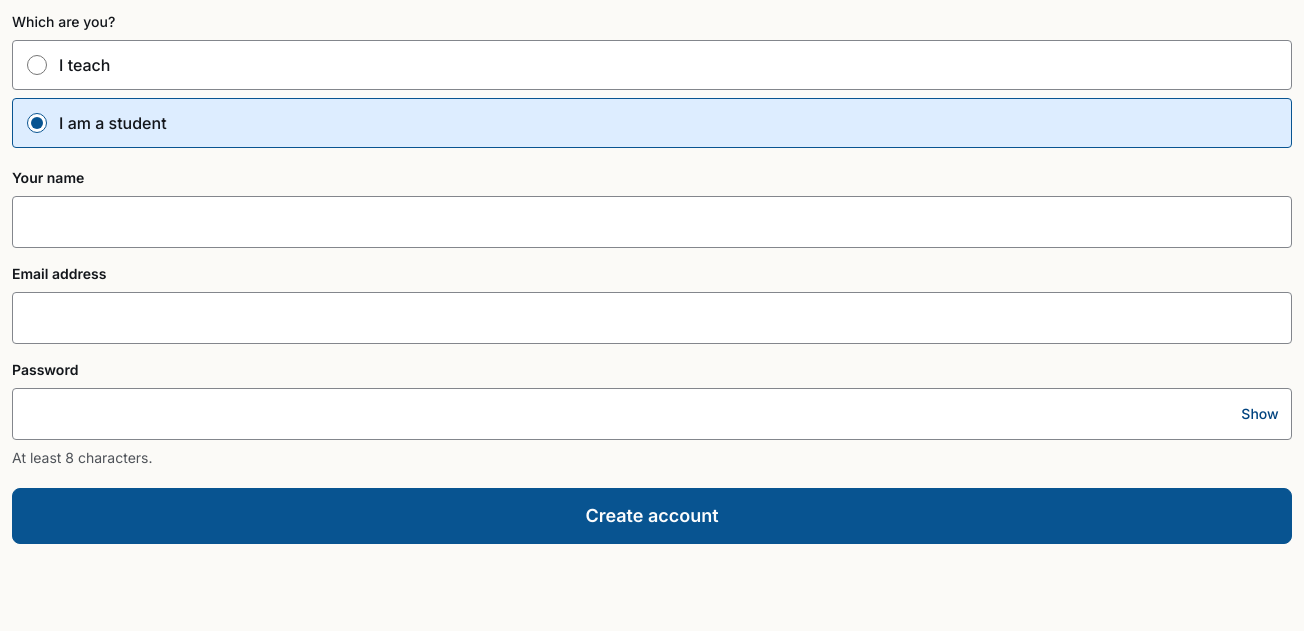
Test: SignUpForm (#361) › ties a refusal to its field, announces it and moves focus there
Step 1. Type "Ada Lovelace" into the field labelled "Your name" → [652, 222], box [12,196,1292,248]
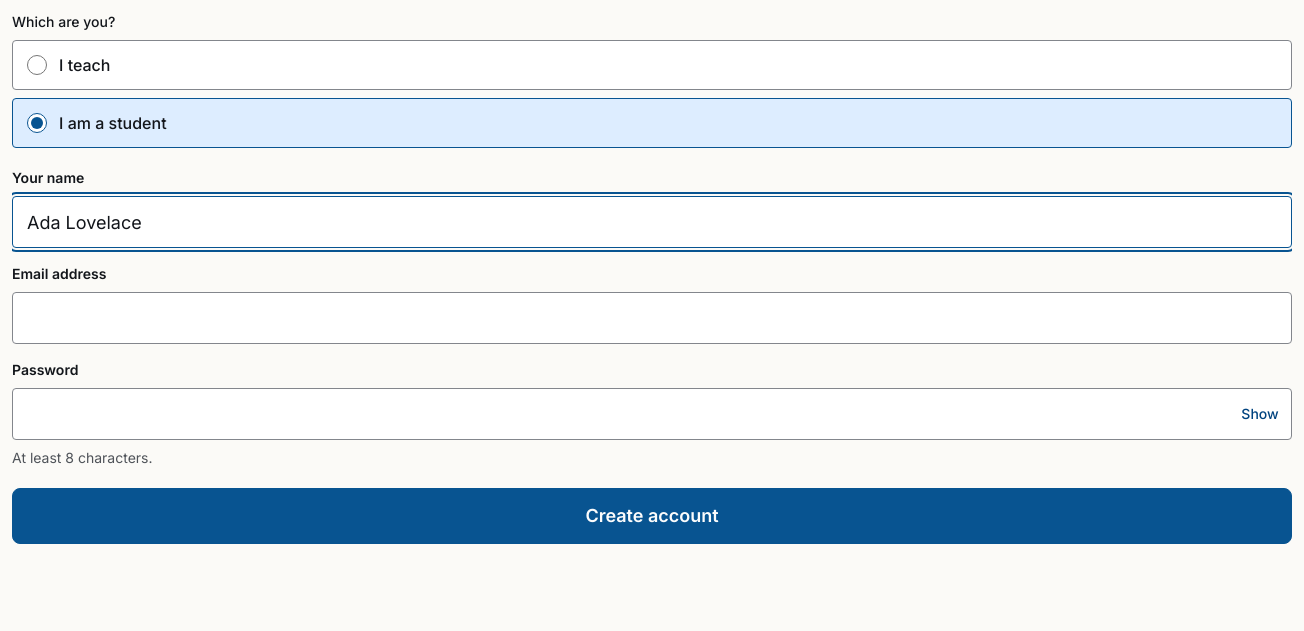
Step 2. Type "ada@school.edu" into the field labelled "Email address" → [652, 318], box [12,292,1292,344]
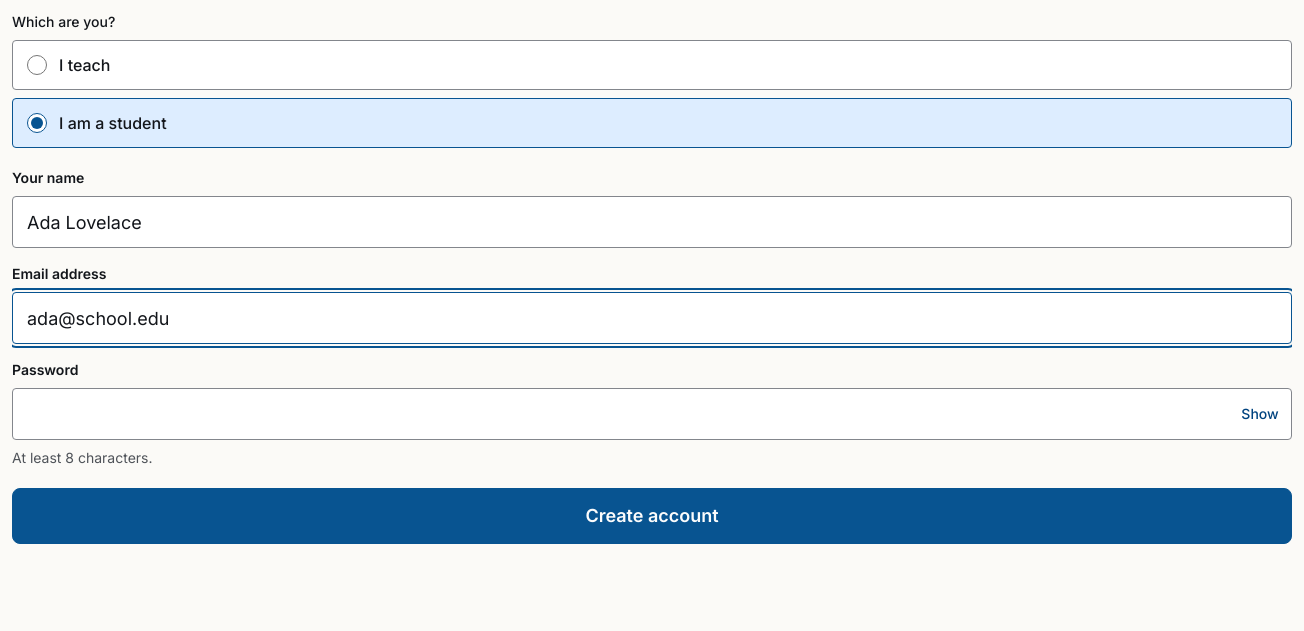
Step 3. Type "correct horse battery" into the password field labelled "Password" → [652, 414], box [12,388,1292,440]
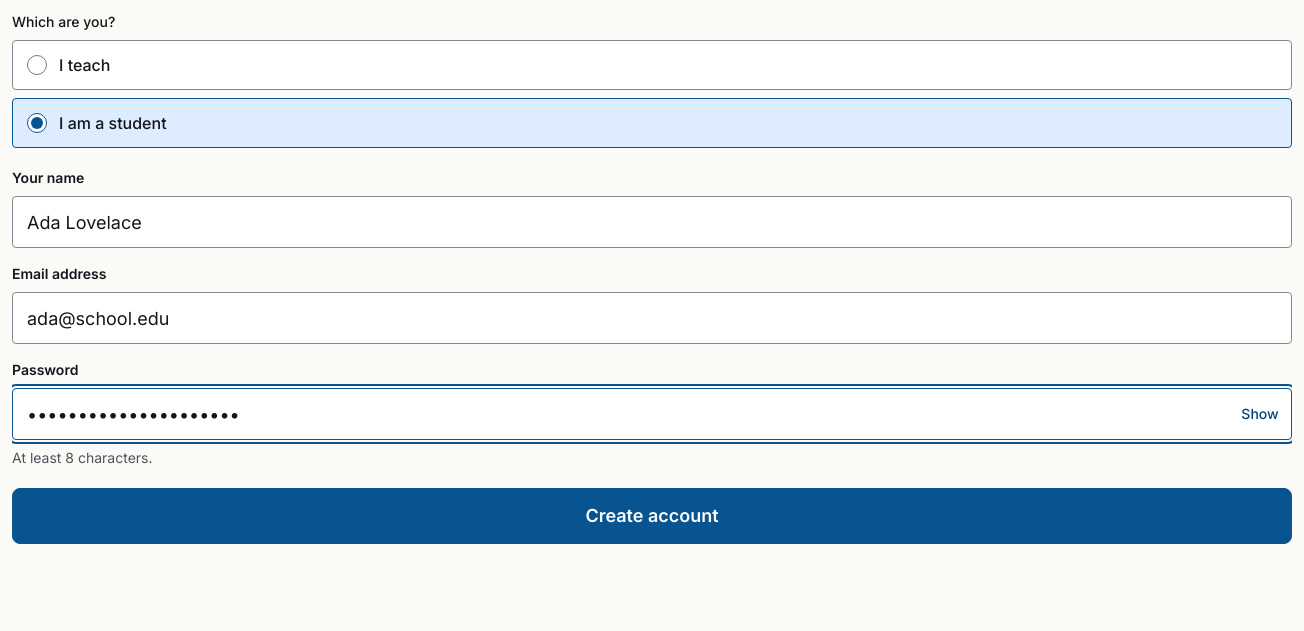
Step 4. Click the button "Create account" → [652, 516], box [12,488,1292,544]
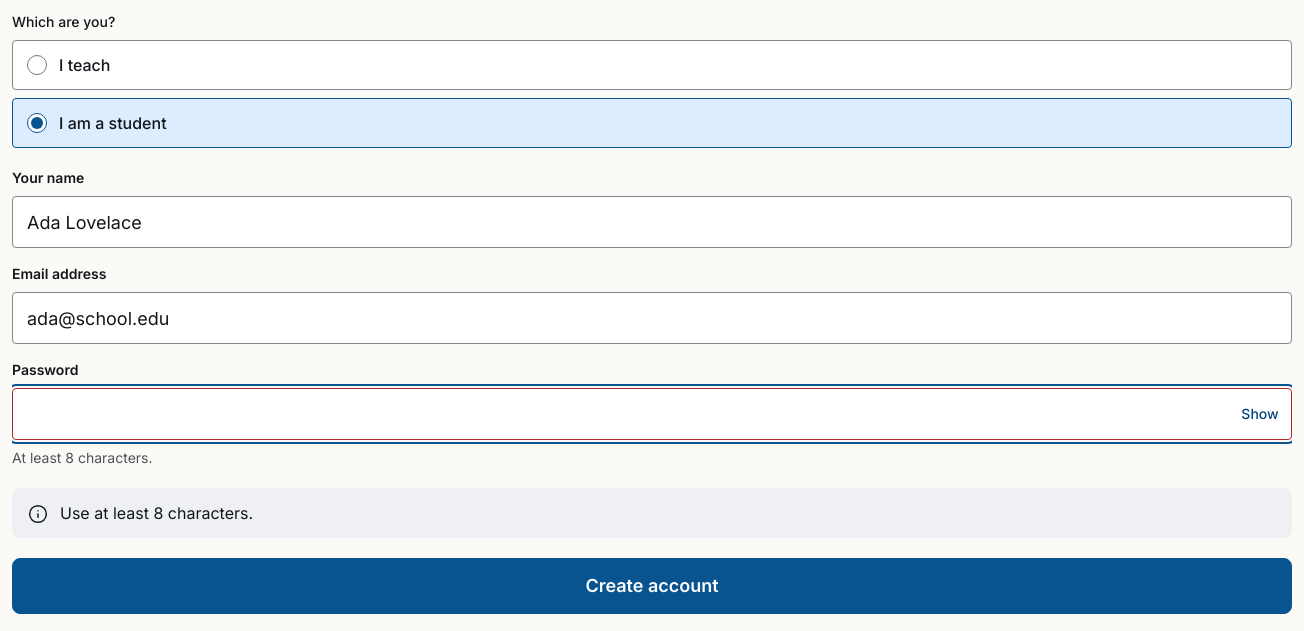
Check: the message reads "Use at least 8 characters.", box [60,503,253,523]
